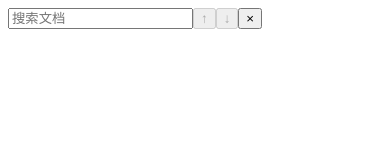
Test: SearchPanel › 无命中 → 显示"未找到"
The image size is (391, 160).
Type "zzzz" into the search field at (100, 18), box [8, 8, 193, 29]
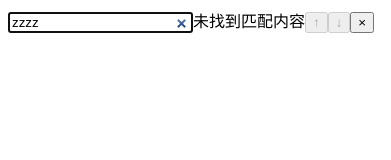
Check: the text "未找到匹配内容" is shown, box [193, 13, 305, 30]
